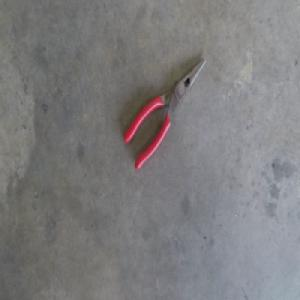Pliers: (122, 57, 206, 174)
